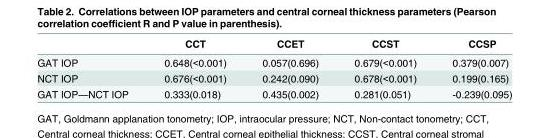table: (36, 37, 511, 99)
table column: (36, 37, 145, 99), (145, 37, 243, 99), (335, 37, 433, 99), (243, 37, 335, 99), (433, 37, 511, 99)
table column header: (36, 37, 511, 52)
table row: (36, 52, 511, 70), (36, 37, 511, 52), (36, 70, 511, 85), (36, 85, 511, 99)
